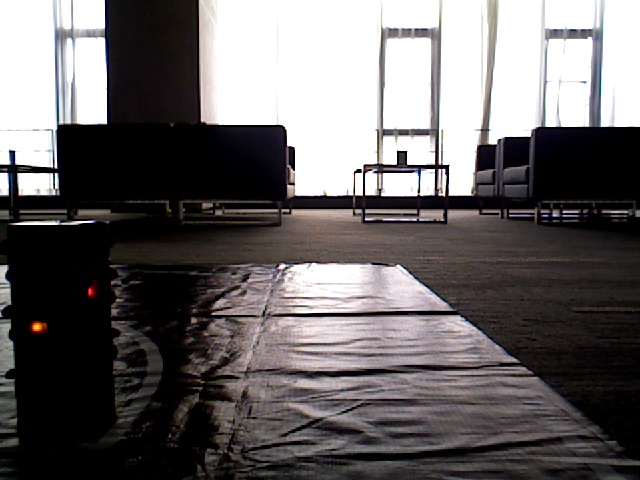yellow: (11, 230, 82, 400)
